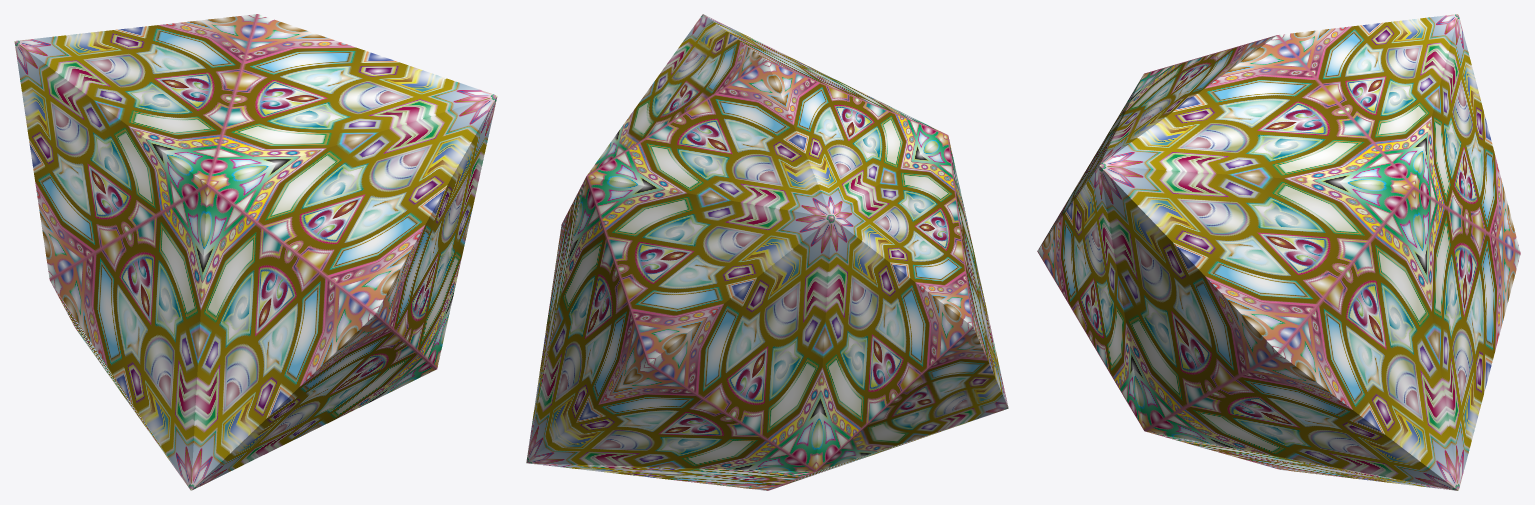
Rendered from 6HexakisTetrahedron.obj.
3 renders of one model, left to right at view 1: azimuth 30°, elevation 25°; view 2: azimuth 150°, elevation 25°; view 3: azimuth 270°, elevation 25°, orthographic.
Bounding box in the file's own units: 9.9 × 9.85 × 9.9.
Materials: 1 (1 with a texture image).
